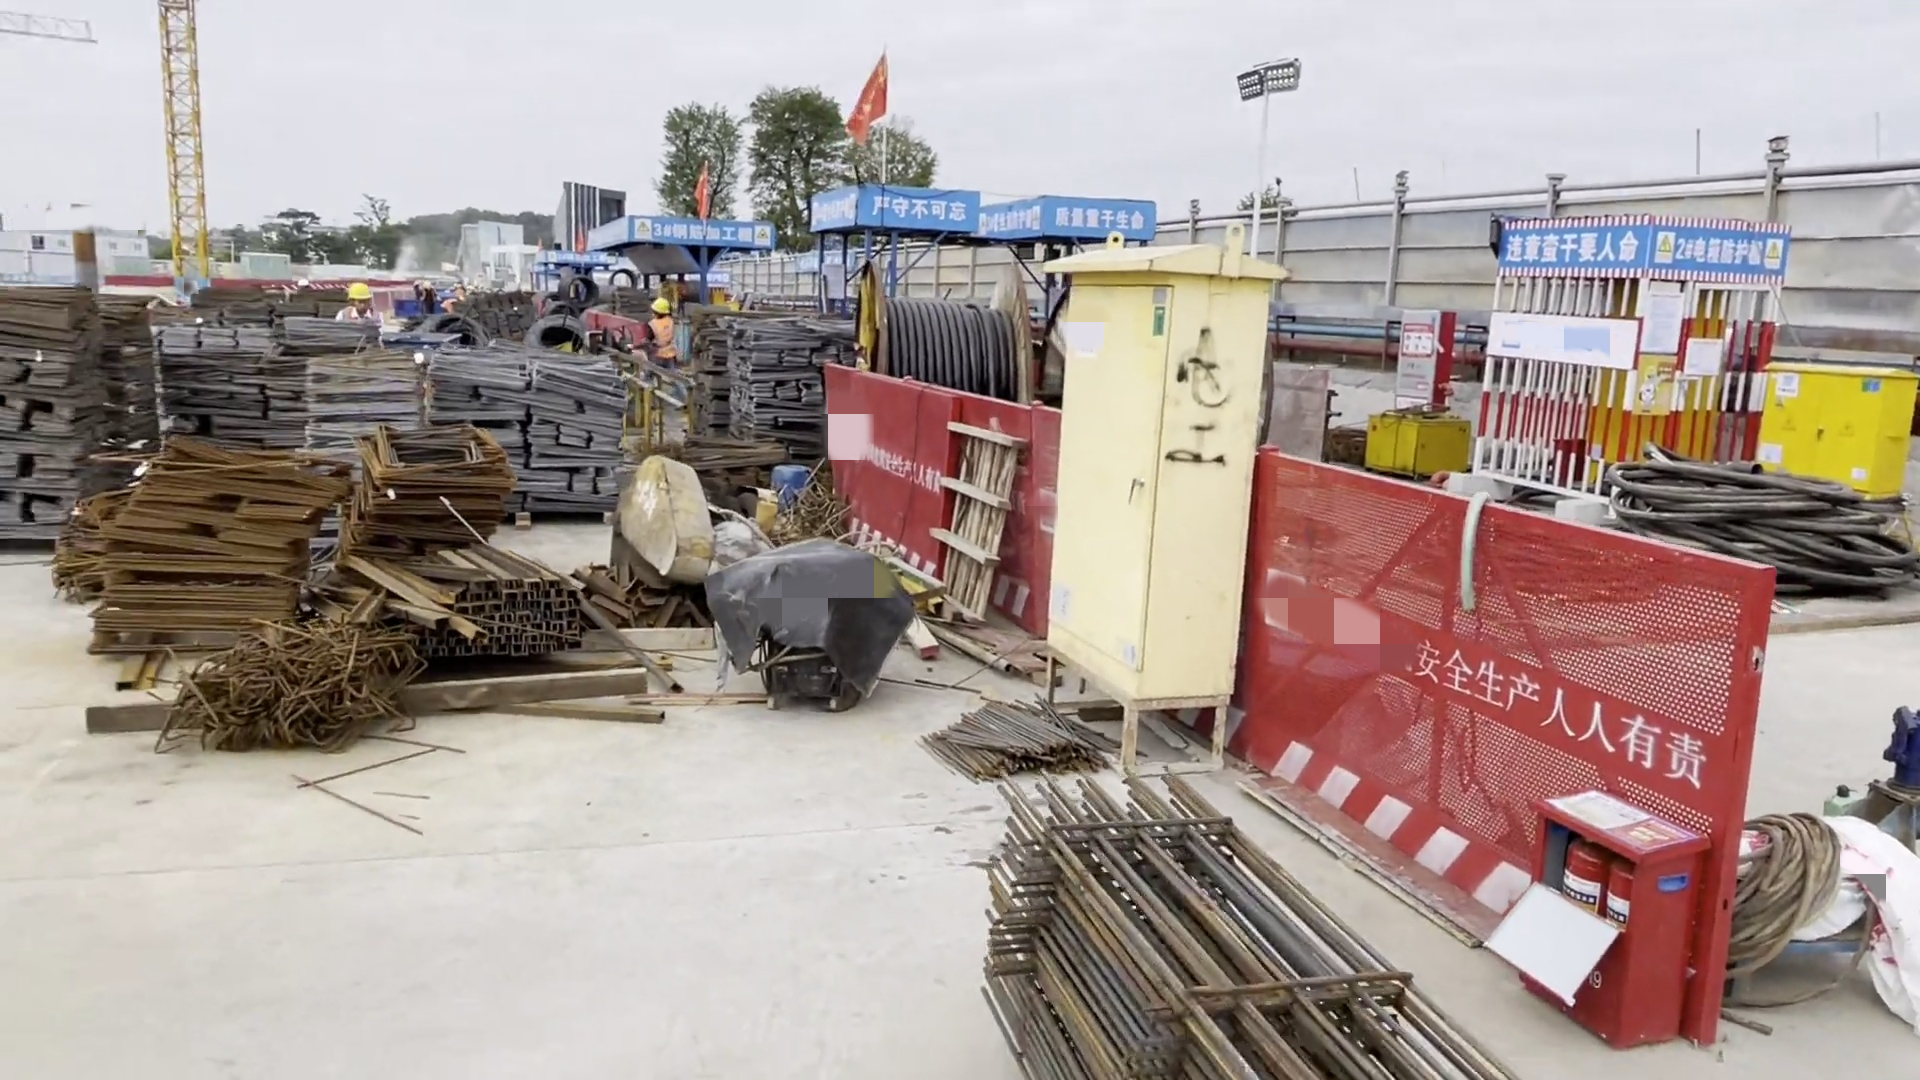ebox: (1051, 244, 1257, 768), (1758, 361, 1910, 505), (1604, 280, 1711, 469)
fence: (1245, 447, 1741, 1047), (814, 363, 1050, 627)
helmet: (650, 295, 669, 317), (348, 283, 369, 301)
person: (644, 298, 684, 404), (332, 284, 374, 327), (415, 283, 437, 313), (441, 296, 465, 315)
rebar: (984, 768, 1498, 1080), (929, 701, 1110, 779)
slogan: (1503, 222, 1641, 267), (811, 196, 970, 233), (984, 199, 1147, 232), (1765, 234, 1786, 284), (1650, 224, 1672, 270), (635, 216, 654, 244), (752, 223, 767, 244)
vest: (652, 316, 672, 355), (341, 301, 368, 321)
